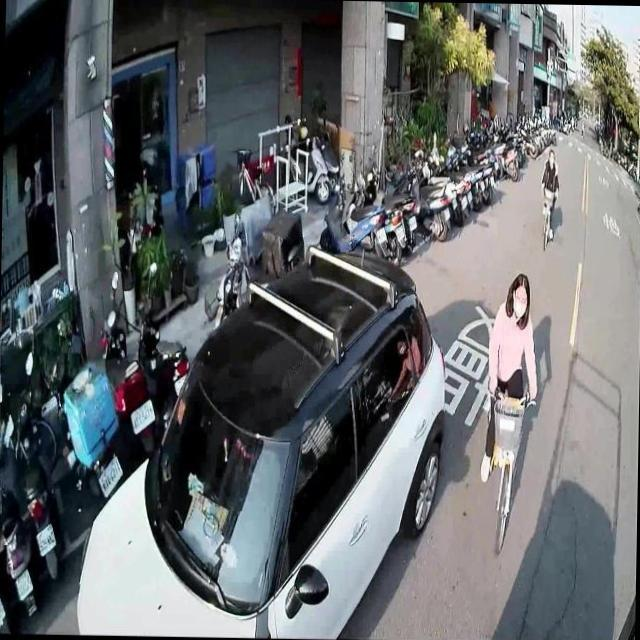person: (478, 264, 542, 491), (538, 144, 561, 240)
